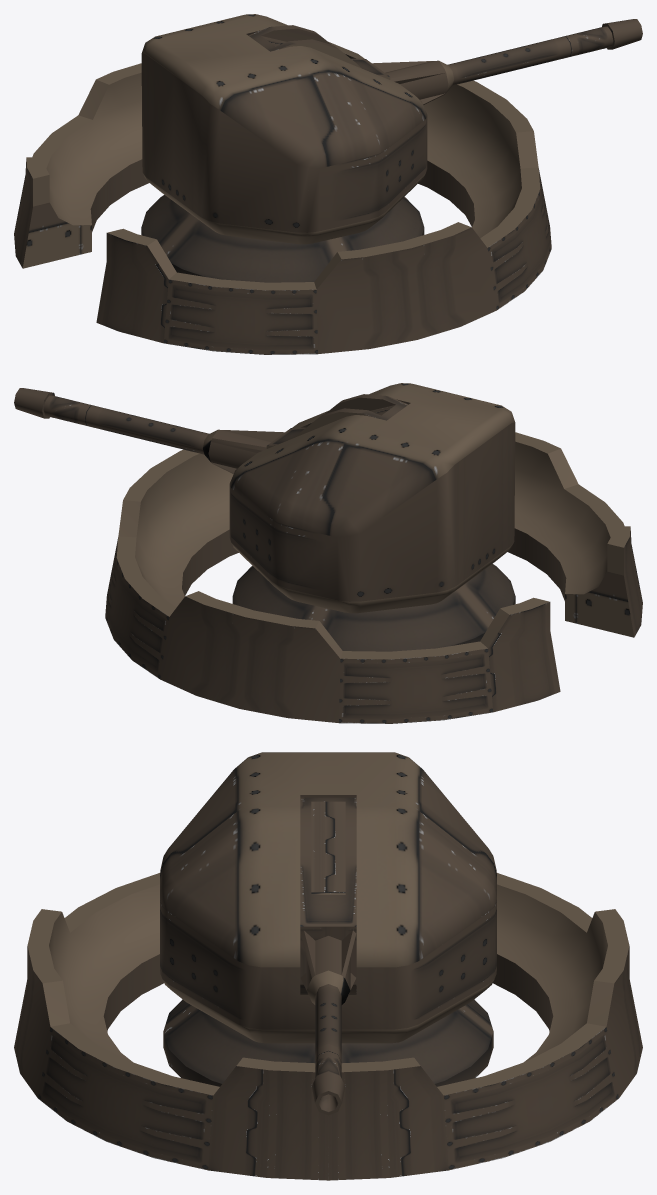
The model's file is Ground_Tower_level2 1.fbx.
3 renders of one model, top to bottom at view 1: azimuth 30°, elevation 25°; view 2: azimuth 150°, elevation 25°; view 3: azimuth 270°, elevation 25°, orthographic. The views are drawn at different scales.
Parts seen in each view (by area): view 1: GT2 _Wall, GT2_Body, GT2_Base, GT2_Barrel; view 2: GT2 _Wall, GT2_Body, GT2_Base, GT2_Barrel; view 3: GT2 _Wall, GT2_Body, GT2_Barrel, GT2_Base.
Part boxes in pixels (<box>): GT2 _Wall: <box>14,63,551,354</box>; GT2_Body: <box>141,14,427,244</box>; GT2_Base: <box>141,195,424,282</box>; GT2_Barrel: <box>248,19,642,104</box>; GT2 _Wall: <box>105,432,642,723</box>; GT2_Body: <box>229,383,515,613</box>; GT2_Base: <box>232,564,515,651</box>; GT2_Barrel: <box>14,388,408,473</box>; GT2 _Wall: <box>14,873,642,1180</box>; GT2_Body: <box>160,752,496,1043</box>; GT2_Barrel: <box>300,797,356,1115</box>; GT2_Base: <box>163,999,493,1086</box>.
Size of the model in its own units: 6.77 by 2.3 by 5.47.
